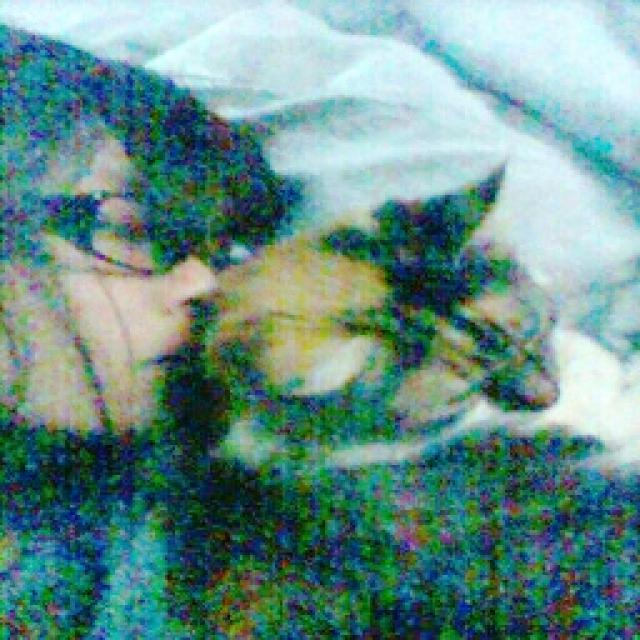cat: (155, 112, 623, 640)
